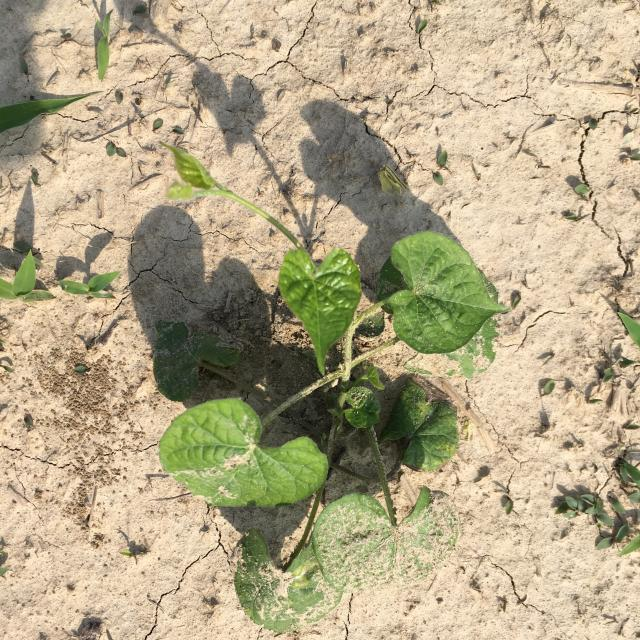MorningGlory: (154, 142, 510, 636)
